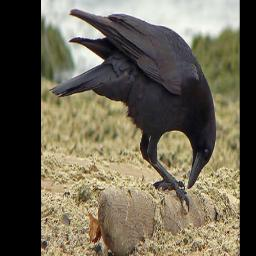Crow: (49, 8, 217, 216)
